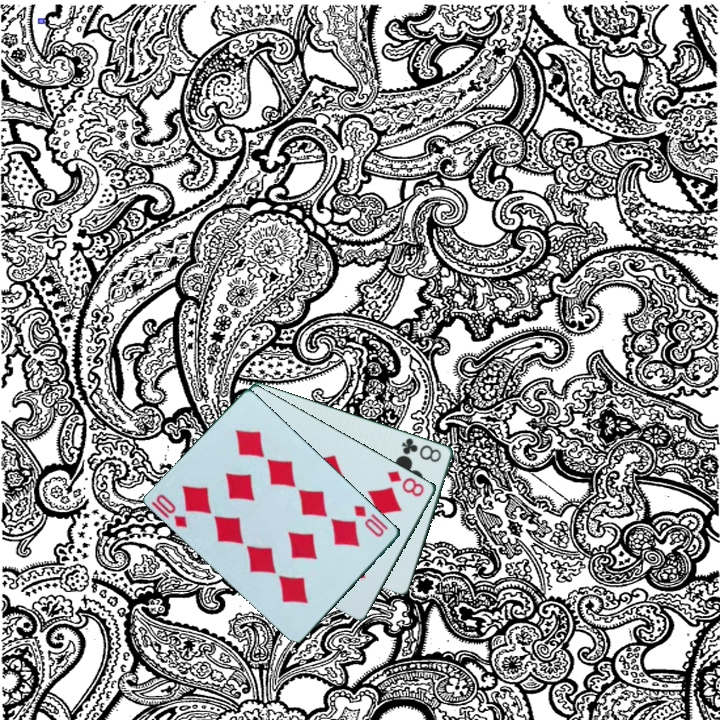10d: (148, 491, 191, 531), (350, 501, 392, 540)
8c: (398, 434, 445, 465)
8d: (384, 467, 428, 500)
